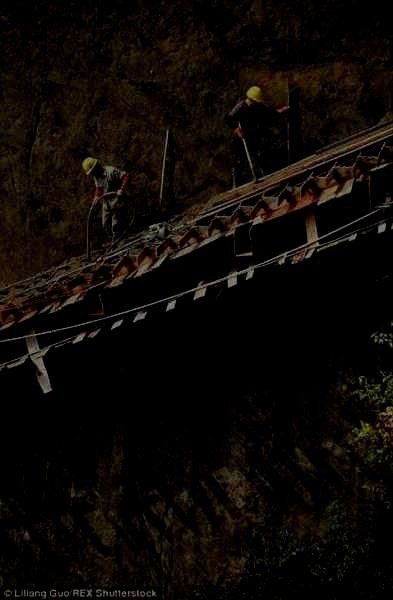helmet: (81, 157, 102, 178), (245, 86, 263, 107)
